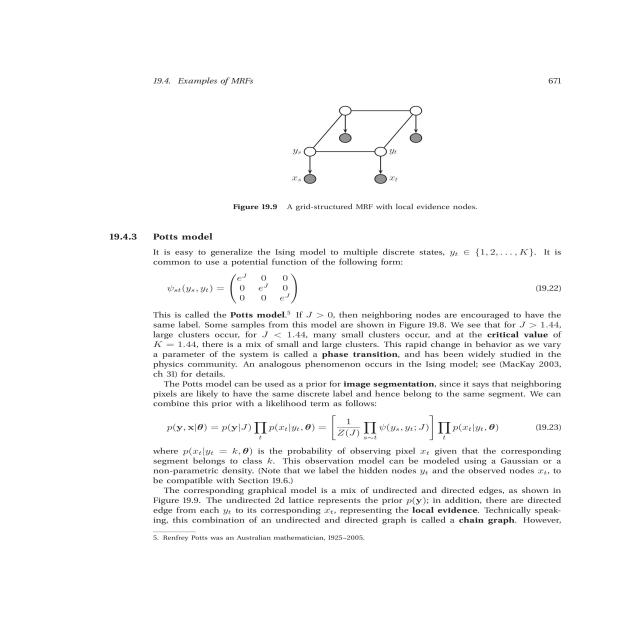diagram: (111, 101, 640, 215)
